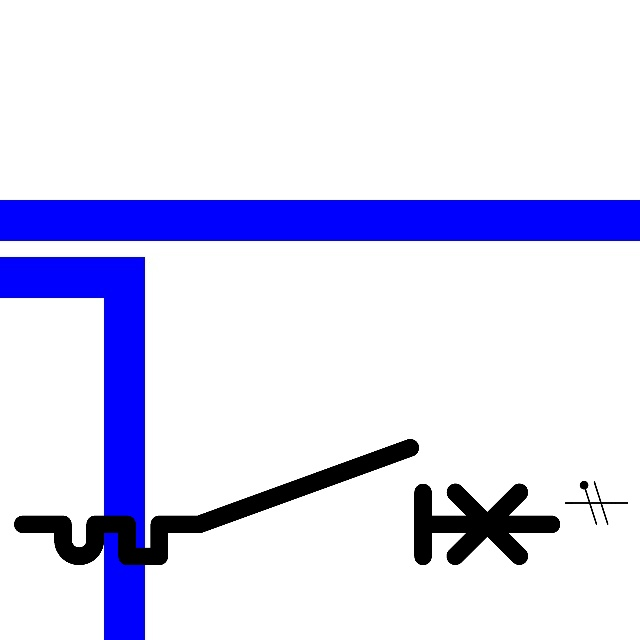interruptor_termomagnetico: (9, 434, 565, 570)
